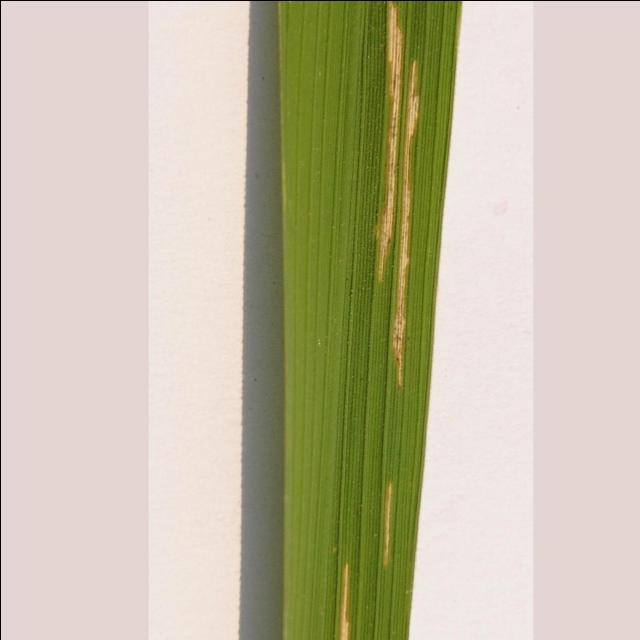Bacterial leaf blight: (359, 0, 426, 385), (317, 550, 358, 640), (367, 478, 398, 568)
